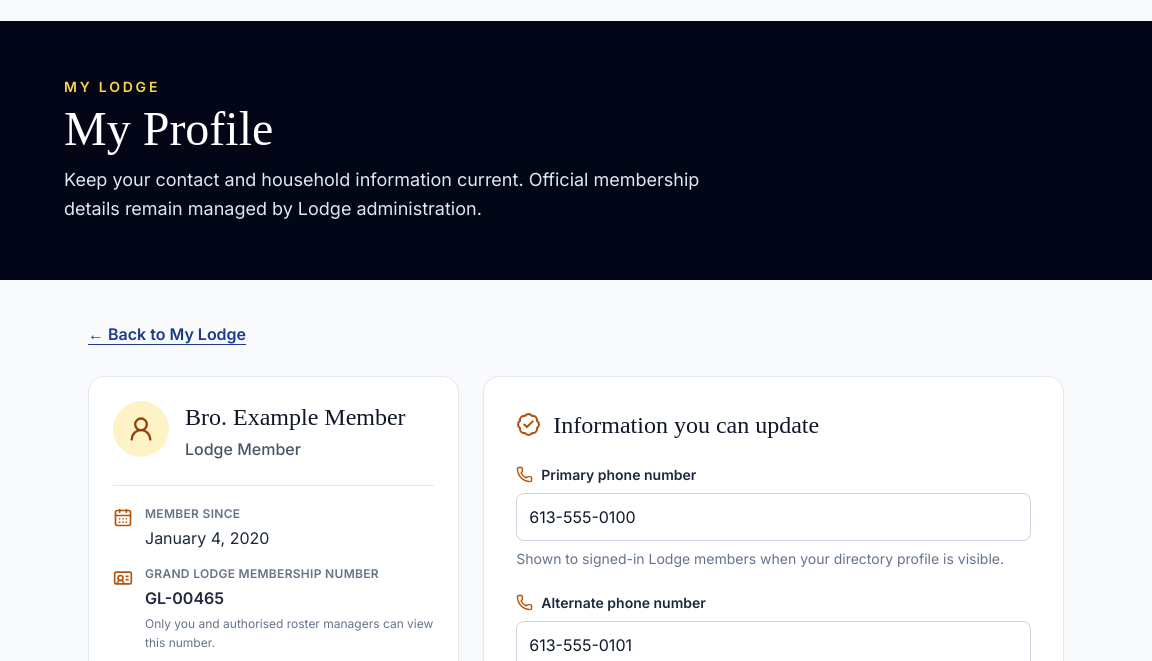
Test: MyProfilePage › saves the member-editable profile fields and refreshes the form
Check: the heading "Bro. Example Member" is shown, box [185, 400, 406, 432]
Replace the text in the field labelled "Primary phone number" with "613-555-0199" at (774, 516), box [516, 492, 1031, 540]
(page scrolled)
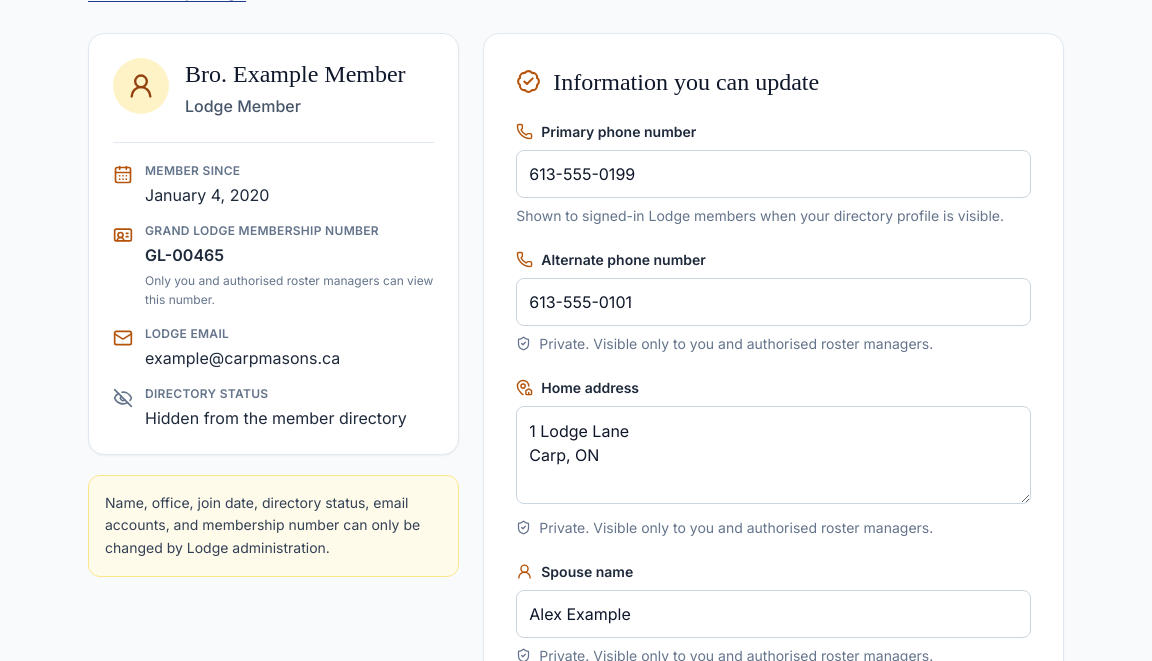
Clear the field labelled "Alternate phone number" at (774, 302), box [516, 278, 1031, 326]
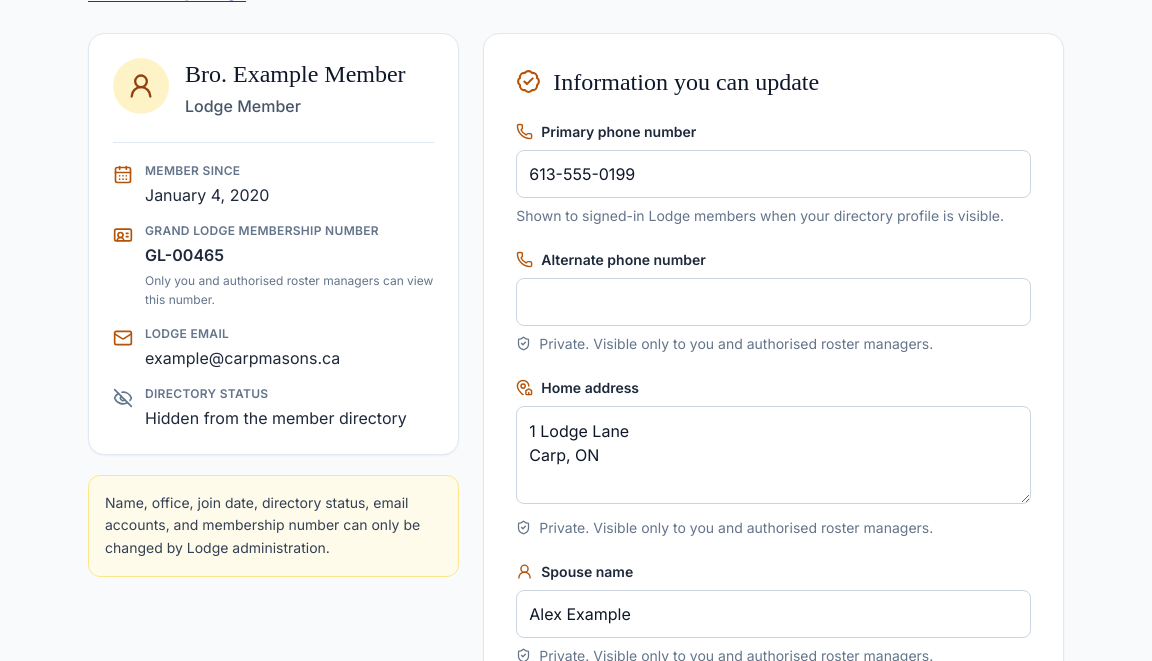
Clear the text box labelled "Home address" at (774, 454), box [516, 406, 1031, 504]
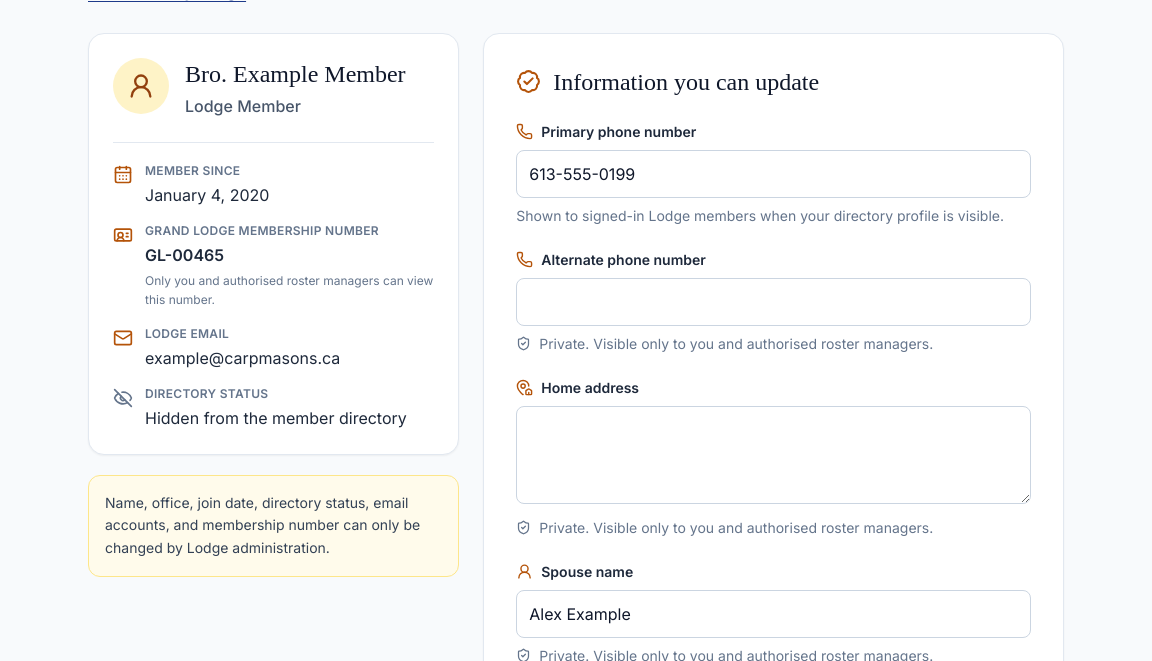
Replace the text in the field labelled "Spouse name" with "Jamie Example" at (774, 614), box [516, 590, 1031, 638]
(page scrolled)
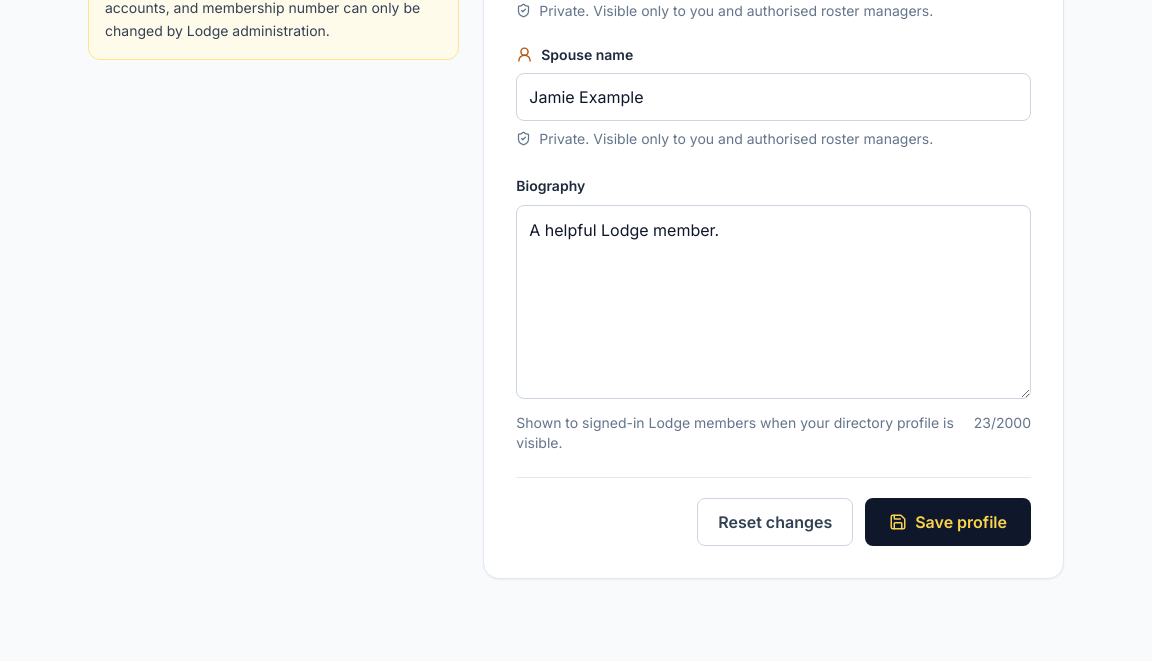
Replace the text in the text box labelled "Biography" with "Updated biography." at (774, 302), box [516, 204, 1031, 398]
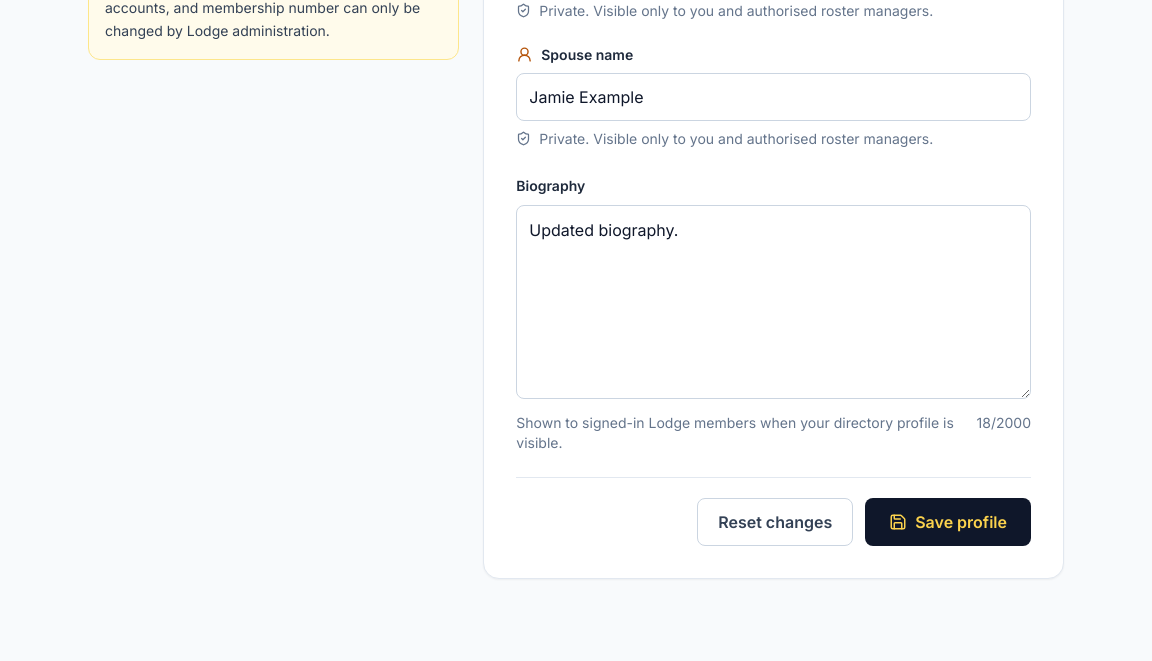
Click the button "Save profile".
click(948, 522)  # box [865, 498, 1031, 546]
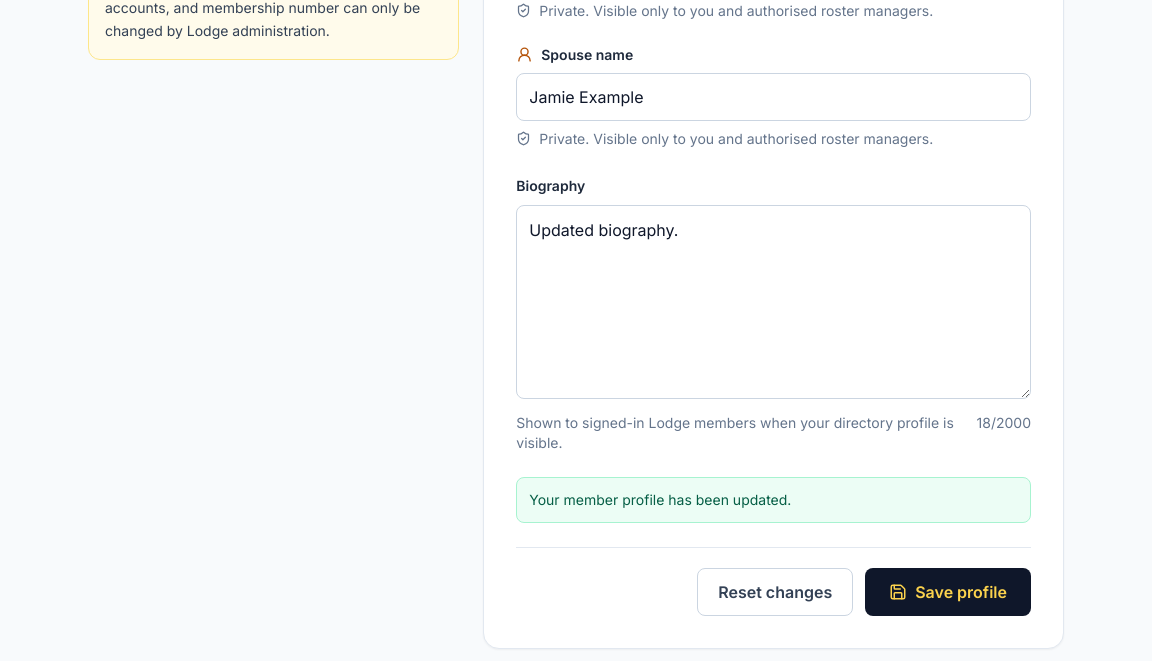
Check: the text "Your member profile has been updated." is shown, box [516, 476, 1031, 522]
